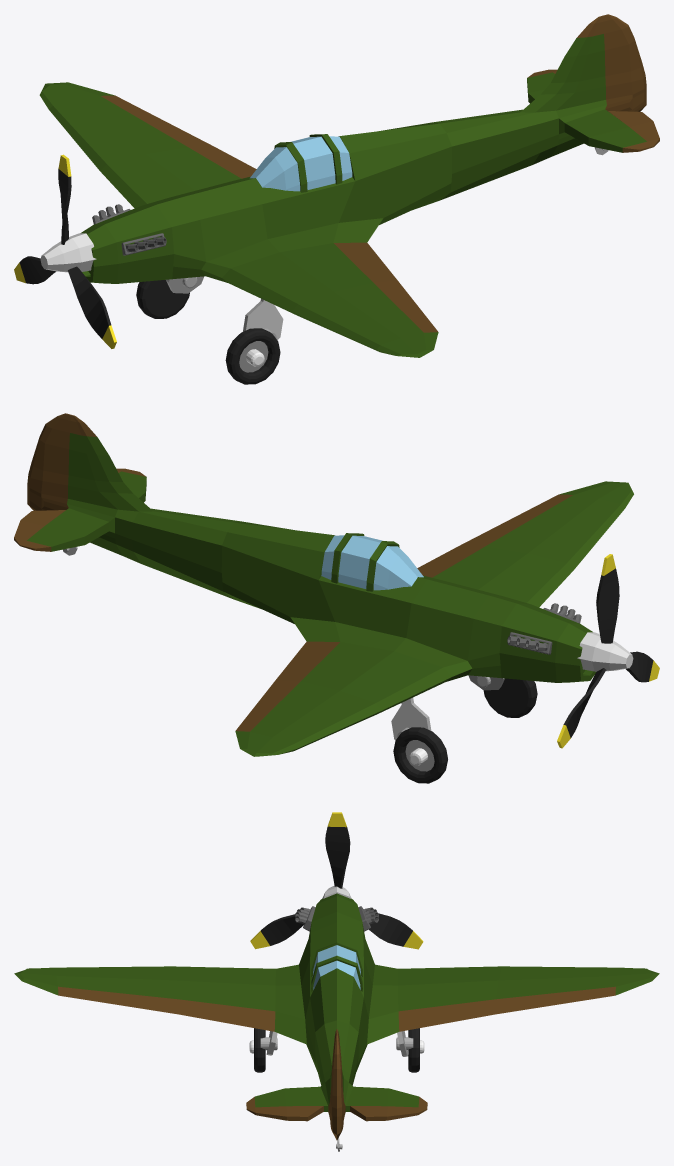
Rendered from low_poly_spitfire_airplane.glb.
3 views of the same model, one above another, from view 1: azimuth 30°, elevation 25°; view 2: azimuth 150°, elevation 25°; view 3: azimuth 270°, elevation 25° (orthographic). The views are drawn at different scales.
Visible parts, largest first — view 1: Body, Propeller, Rudder, Wheel_L, Wheel_R, Flap_L, Aileron_R, Elevator, Aileron_L, Landing_Gear_L, Flap_R; view 2: Body, Propeller, Rudder, Wheel_R, Wheel_L, Flap_R, Aileron_L, Elevator, Aileron_R, Landing_Gear_R, Flap_L; view 3: Body, Propeller, Elevator, Flap_L, Flap_R, Aileron_L, Aileron_R, Rudder, Wheel_L, Wheel_R.
Boxes of the visible parts, x1,y1,x2,y2 form: Body: [39, 34, 646, 357]; Propeller: [14, 154, 116, 348]; Rudder: [577, 14, 646, 111]; Wheel_L: [225, 328, 280, 384]; Wheel_R: [136, 280, 189, 318]; Flap_L: [334, 242, 397, 282]; Aileron_R: [101, 95, 214, 147]; Elevator: [527, 69, 659, 152]; Aileron_L: [374, 281, 437, 332]; Landing_Gear_L: [243, 298, 283, 339]; Flap_R: [189, 147, 256, 178]; Body: [27, 433, 633, 756]; Propeller: [557, 554, 659, 748]; Rudder: [27, 413, 96, 510]; Wheel_R: [393, 727, 447, 783]; Wheel_L: [483, 678, 537, 717]; Flap_R: [276, 641, 339, 681]; Aileron_L: [459, 494, 572, 546]; Elevator: [14, 468, 146, 551]; Aileron_R: [235, 680, 299, 731]; Landing_Gear_R: [391, 697, 431, 740]; Flap_L: [417, 546, 484, 577]; Body: [14, 893, 659, 1112]; Propeller: [250, 812, 423, 949]; Elevator: [246, 1097, 427, 1121]; Flap_L: [178, 999, 275, 1031]; Flap_R: [398, 999, 495, 1031]; Aileron_L: [58, 986, 178, 1014]; Aileron_R: [495, 986, 615, 1014]; Rudder: [328, 1029, 345, 1140]; Wheel_L: [249, 1028, 265, 1072]; Wheel_R: [408, 1028, 424, 1072].
Size of the model in its own units: 3.73 by 1.41 by 4.02.
1 material, 1 textured.
